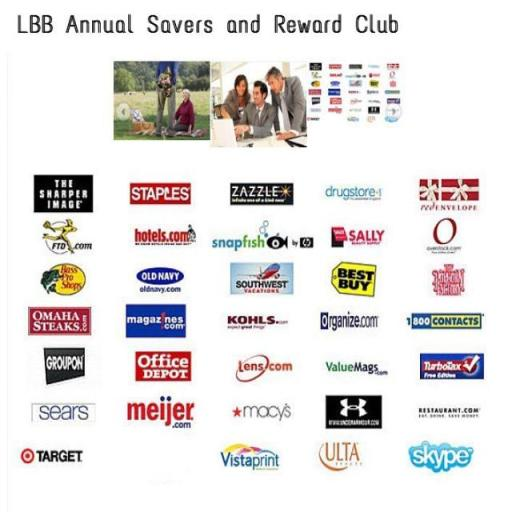Under Armour: (324, 393, 384, 428)
